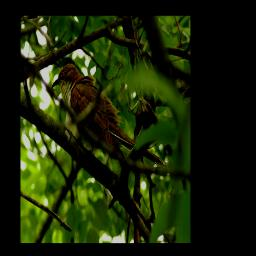Cuckoo: (51, 61, 167, 169)
